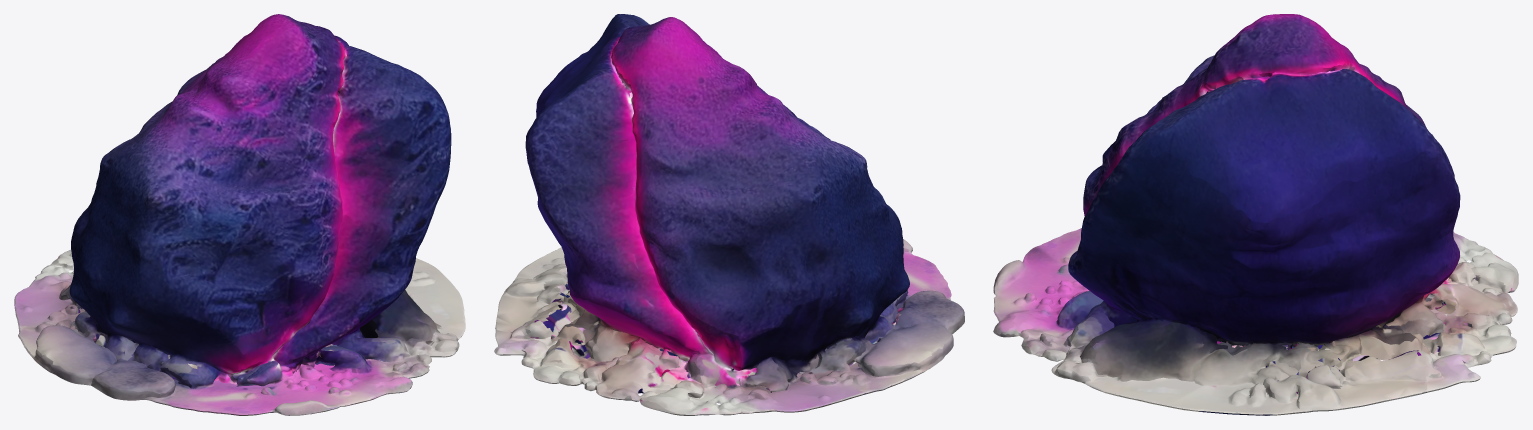
Rendered from shore-stone-10-generated-2026-05-17T20-19-38-041Z.high.glb.
3 views of the same model, side by side, from view 1: azimuth 30°, elevation 25°; view 2: azimuth 150°, elevation 25°; view 3: azimuth 270°, elevation 25° (orthographic). The views are drawn at different scales.
Parts seen in each view (by area): view 1: temp_mesh.ply; view 2: temp_mesh.ply; view 3: temp_mesh.ply.
Part boxes in pixels (x1,y1,x2,y2): temp_mesh.ply: [14, 14, 465, 415]; temp_mesh.ply: [494, 14, 964, 415]; temp_mesh.ply: [993, 14, 1518, 415].
Bounding box in the file's own units: 1.97 × 1.33 × 1.97.
1 material, 1 textured.
